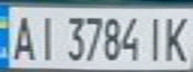3: (60, 12, 87, 62)
4: (118, 12, 145, 63)
7: (81, 12, 106, 62)
8: (103, 14, 124, 62)
A: (3, 10, 39, 62)
I: (33, 11, 60, 62), (142, 12, 169, 63)
K: (160, 11, 193, 63)
